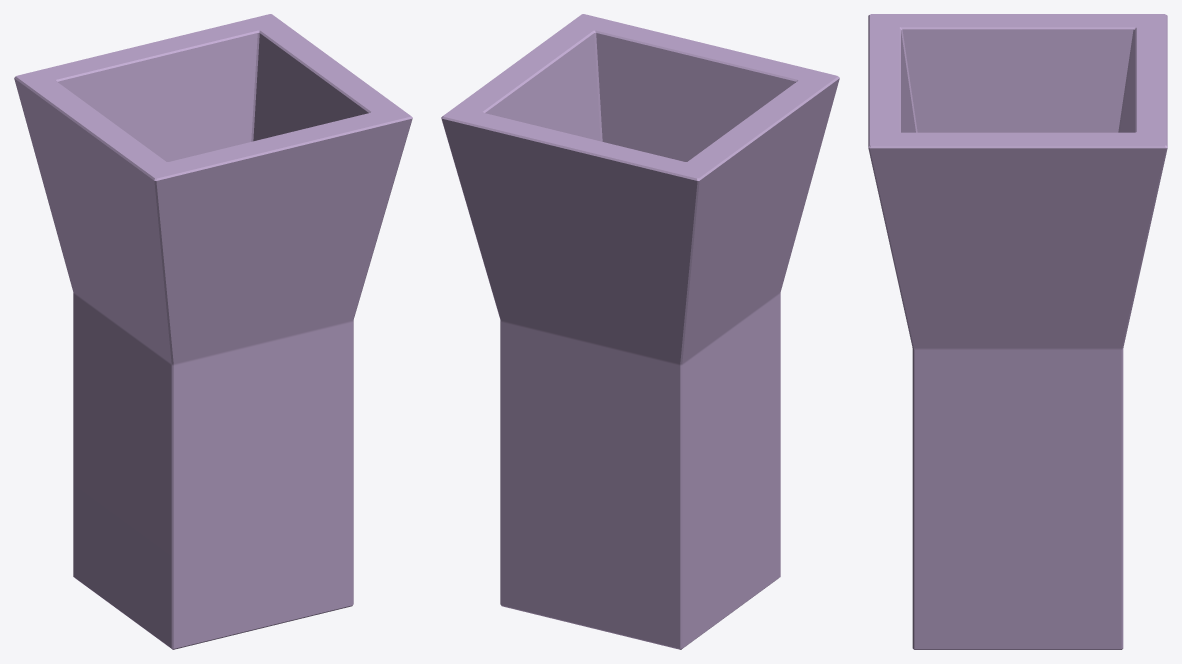
Rendered from vase.fbx.
3 views of the same model, side by side, from view 1: azimuth 30°, elevation 25°; view 2: azimuth 150°, elevation 25°; view 3: azimuth 270°, elevation 25° (orthographic). The views are drawn at different scales.
Parts seen in each view (by area): view 1: pCube36; view 2: pCube36; view 3: pCube36.
Boxes of the visible parts, box(x1,y1,x2,y2) form: pCube36: box(14, 14, 412, 649); pCube36: box(441, 14, 839, 649); pCube36: box(868, 14, 1167, 649).
Bounding box in the file's own units: 19.29 × 35.38 × 18.33.
